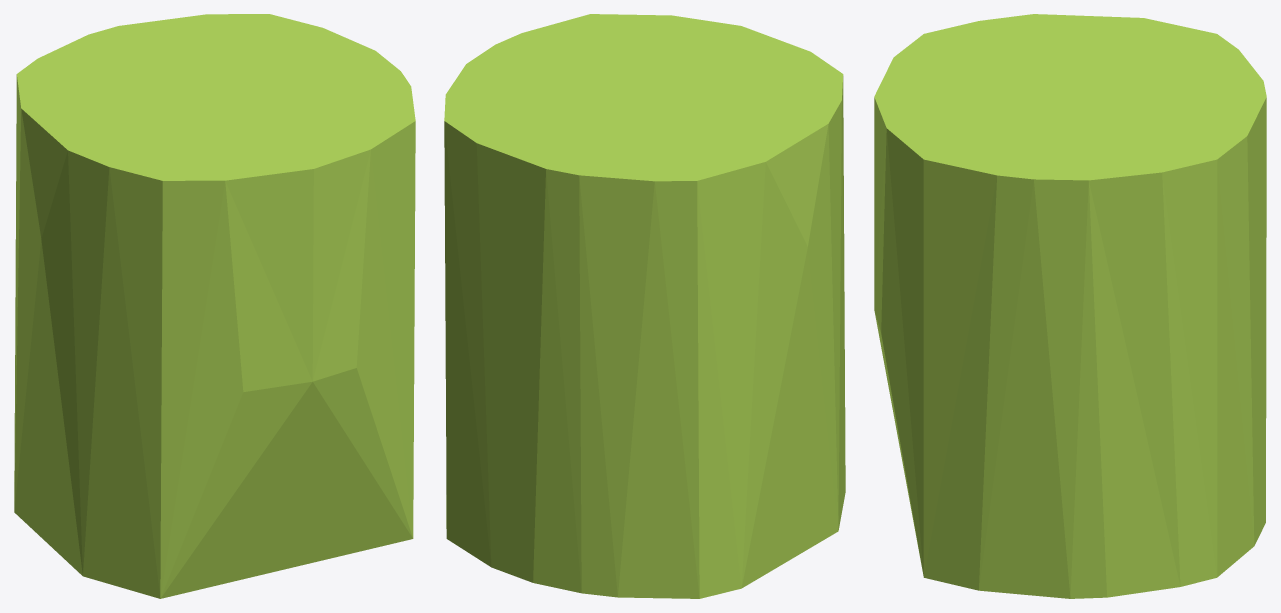
Rendered from niryoone_Link_3_coll_2.dae.
3 renders of one model, left to right at view 1: azimuth 30°, elevation 25°; view 2: azimuth 150°, elevation 25°; view 3: azimuth 270°, elevation 25°, orthographic.
Visible parts, largest first — view 1: Node_0000016F5E36BC40; view 2: Node_0000016F5E36BC40; view 3: Node_0000016F5E36BC40.
Part boxes in pixels (x1,y1,x2,y2): Node_0000016F5E36BC40: (14, 14, 415, 598); Node_0000016F5E36BC40: (444, 14, 845, 598); Node_0000016F5E36BC40: (874, 14, 1266, 598).
Size of the model in its own units: 0.0474 by 0.0563 by 0.0475.
